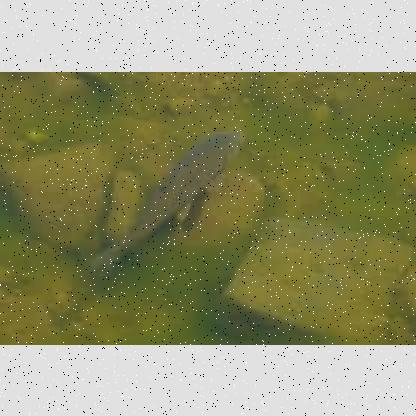ikan-mas: (86, 120, 249, 272)
